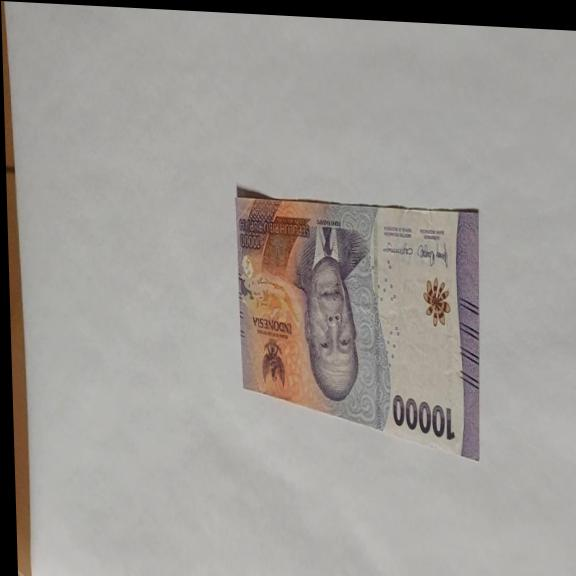Kertas: (233, 191, 486, 464), (391, 393, 456, 442)
